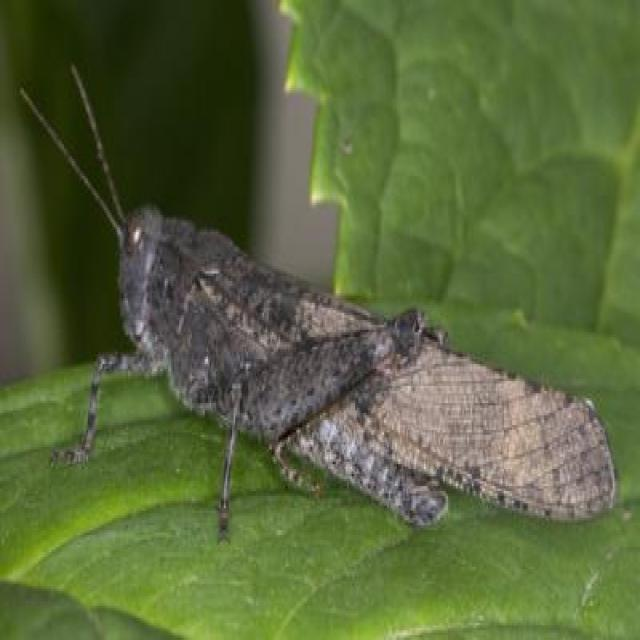antennae: (20, 90, 124, 237), (73, 72, 120, 218)
body: (122, 206, 432, 520)
insect: (20, 65, 619, 552)
legs: (234, 311, 428, 495), (44, 345, 160, 464), (188, 379, 241, 535)
mouthpart: (123, 309, 144, 345)
wings: (191, 248, 615, 506)
